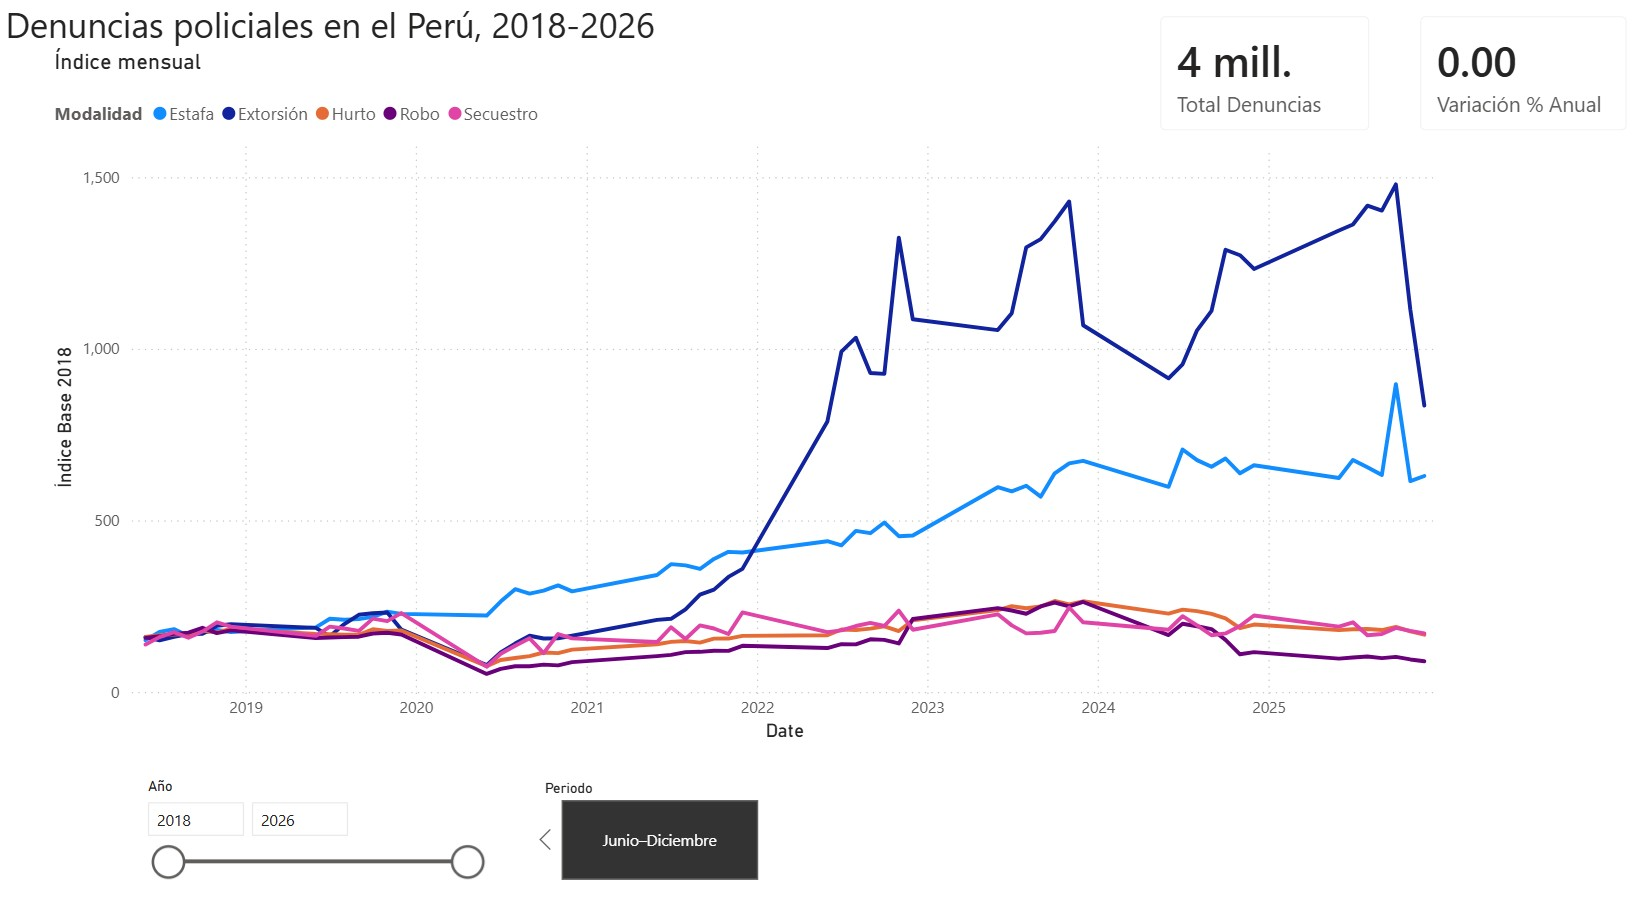

What the dashboard file says about the page in this screenshot:
{"tool":"powerbi","page":{"name":"Evolución ","canvas":[1280,720],"ordinal":0},"visuals":[{"type":"textbox","box":[10.1,0,581.6,63.1],"z":0},{"type":"lineChart","title":"Índice mensual ","fields":{"Y":["_Medidas.Índice Base 2018"],"Series":["Dim Modalidad.Modalidad"],"Category":["Calendario.Date"]},"box":[47.6,41.6,1076.7,538.7],"z":1000},{"type":"cardVisual","fields":{"Data":["_Medidas.Total Denuncias"]},"box":[886.2,0,195.2,122.1],"z":2000},{"type":"cardVisual","fields":{"Data":["_Medidas.Variación % Anual"]},"box":[1086.1,0,193.9,122.1],"z":3000},{"type":"slicer","fields":{"Values":["Calendario.Año"]},"box":[111.4,597.7,279.7,89.9],"z":4000},{"type":"slicer","fields":{"Values":["Denuncias.Periodo"]},"box":[416.6,599.1,200.6,88.6],"z":5000}]}

Visuals, with their boxes in screenshot pixels (x1, y1, x2, y2), scaled from the page's 1280x720 canvas onto the 1635x908 screenshot:
textbox: box(13, 0, 756, 80)
"Índice mensual " lineChart: box(61, 52, 1436, 732)
cardVisual - _Medidas.Total Denuncias: box(1132, 0, 1381, 154)
cardVisual - _Medidas.Variación % Anual: box(1387, 0, 1634, 154)
slicer - Calendario.Año: box(142, 754, 500, 867)
slicer - Denuncias.Periodo: box(532, 756, 788, 867)
